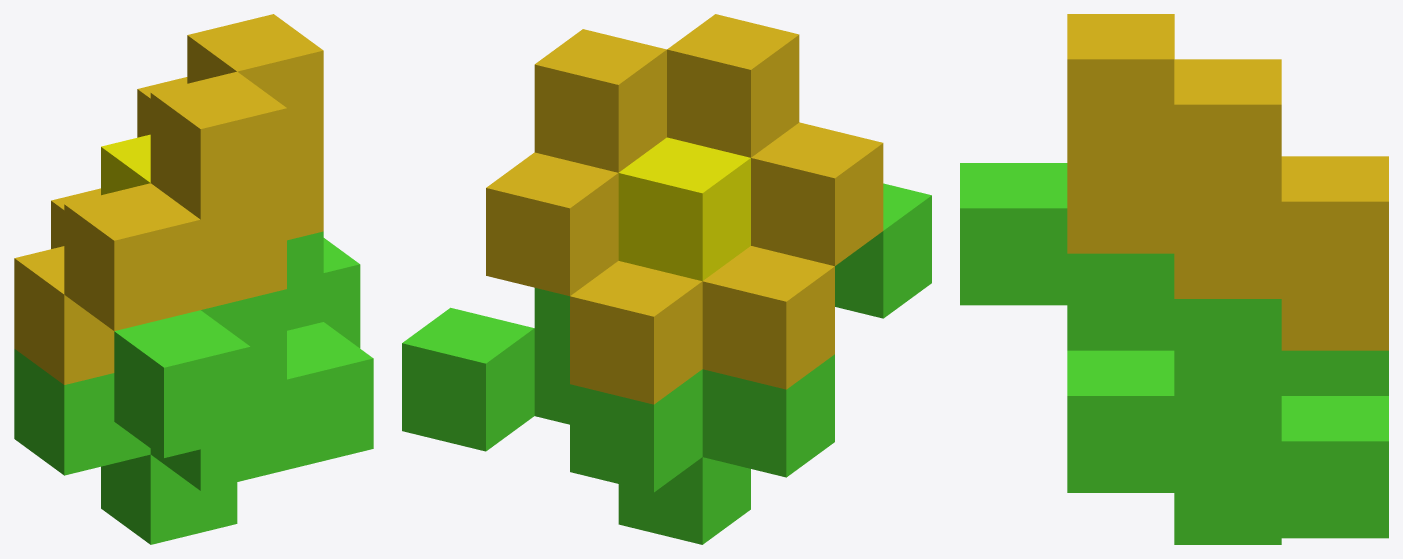
File: tile-61.obj
3 renders of one model, left to right at view 1: azimuth 30°, elevation 25°; view 2: azimuth 150°, elevation 25°; view 3: azimuth 270°, elevation 25°, orthographic. The views are drawn at different scales.
Bounding box in the file's own units: 0.4 × 0.5 × 0.4.
Materials: 1 (1 with a texture image).
